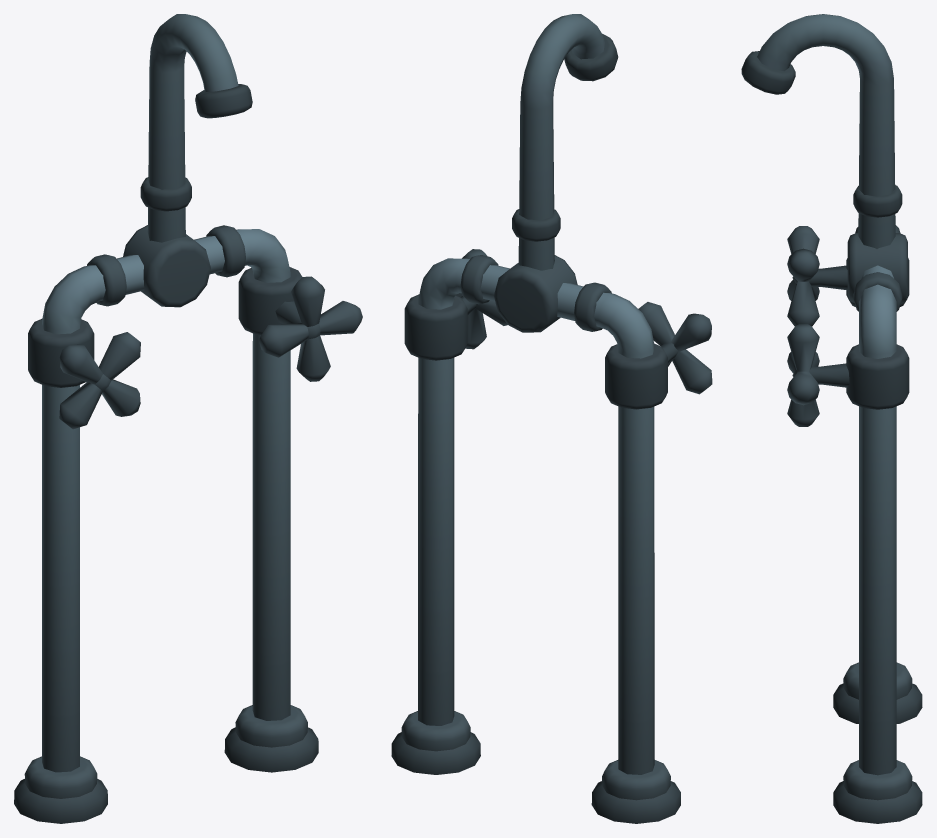
The model's file is Mixer_04.glb.
3 views of the same model, side by side, from view 1: azimuth 30°, elevation 25°; view 2: azimuth 150°, elevation 25°; view 3: azimuth 270°, elevation 25° (orthographic). The views are drawn at different scales.
Parts seen in each view (by area): view 1: Mixer_04; view 2: Mixer_04; view 3: Mixer_04.
Boxes of the visible parts, <box> form: Mixer_04: <box>14,14,362,823</box>; Mixer_04: <box>391,14,712,823</box>; Mixer_04: <box>741,14,922,823</box>.
Bounding box in the file's own units: 0.4423 × 1.1 × 0.2436.
1 material, 1 textured.
